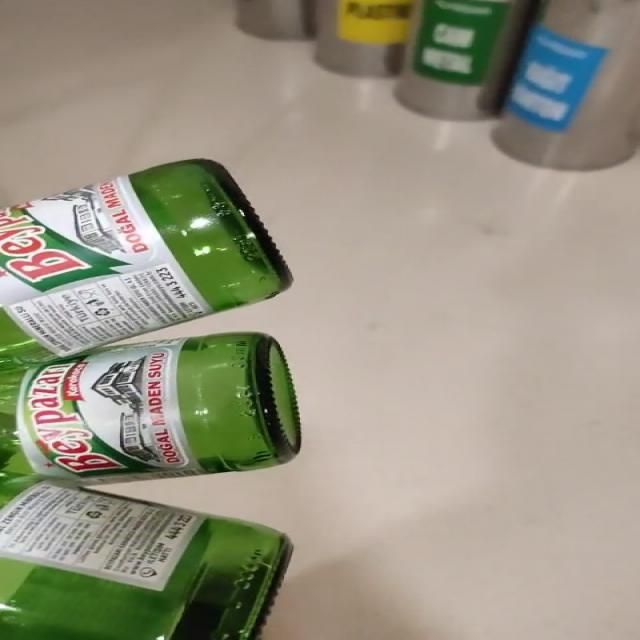glass: (1, 159, 300, 640)
